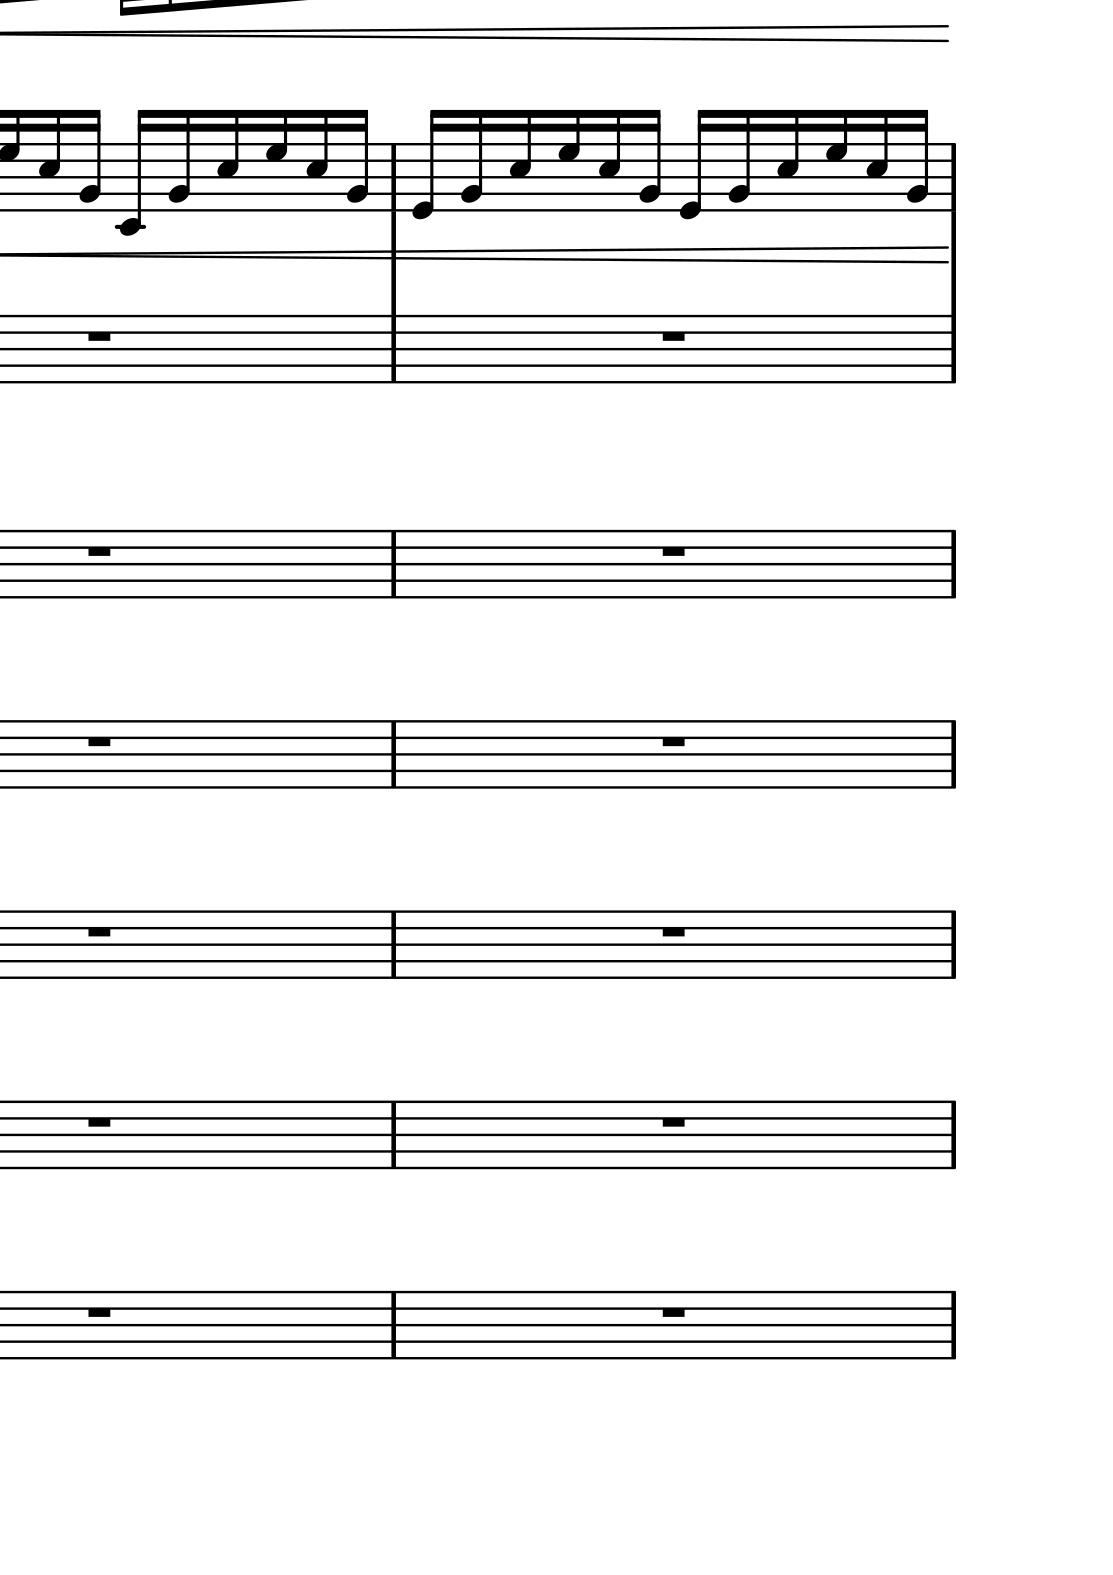16_-2: (114, 106, 151, 241)
16_0: (676, 108, 713, 222), (410, 107, 444, 222)
16_2: (458, 106, 485, 216), (636, 106, 664, 216), (905, 106, 931, 216), (77, 107, 104, 214), (166, 107, 193, 214), (726, 107, 753, 214), (344, 107, 370, 216)
16_5: (304, 107, 331, 216), (775, 107, 802, 216), (507, 107, 534, 216), (596, 107, 623, 214), (865, 107, 891, 214), (214, 107, 241, 213), (37, 107, 61, 216)
16_7: (824, 105, 850, 217), (264, 108, 290, 214), (556, 108, 582, 213), (1, 107, 22, 212)
Crescendo_hairpin: (1, 244, 948, 267)
Rests1: (82, 732, 114, 753), (656, 732, 689, 753), (656, 1111, 689, 1132), (82, 1303, 114, 1323), (656, 1303, 689, 1323), (83, 1111, 114, 1132), (82, 328, 114, 347), (83, 542, 114, 561), (656, 542, 688, 561), (656, 328, 689, 346), (82, 924, 114, 940), (656, 924, 689, 940)
Single_barline: (381, 315, 405, 384), (940, 1101, 964, 1169), (940, 530, 964, 598), (940, 1292, 964, 1359), (940, 721, 964, 789), (940, 912, 964, 979), (940, 315, 962, 384), (381, 912, 404, 979), (381, 721, 404, 789), (382, 530, 404, 598), (382, 1101, 404, 1169), (382, 1291, 404, 1359), (943, 144, 960, 211)
Slur: (383, 143, 404, 210)
